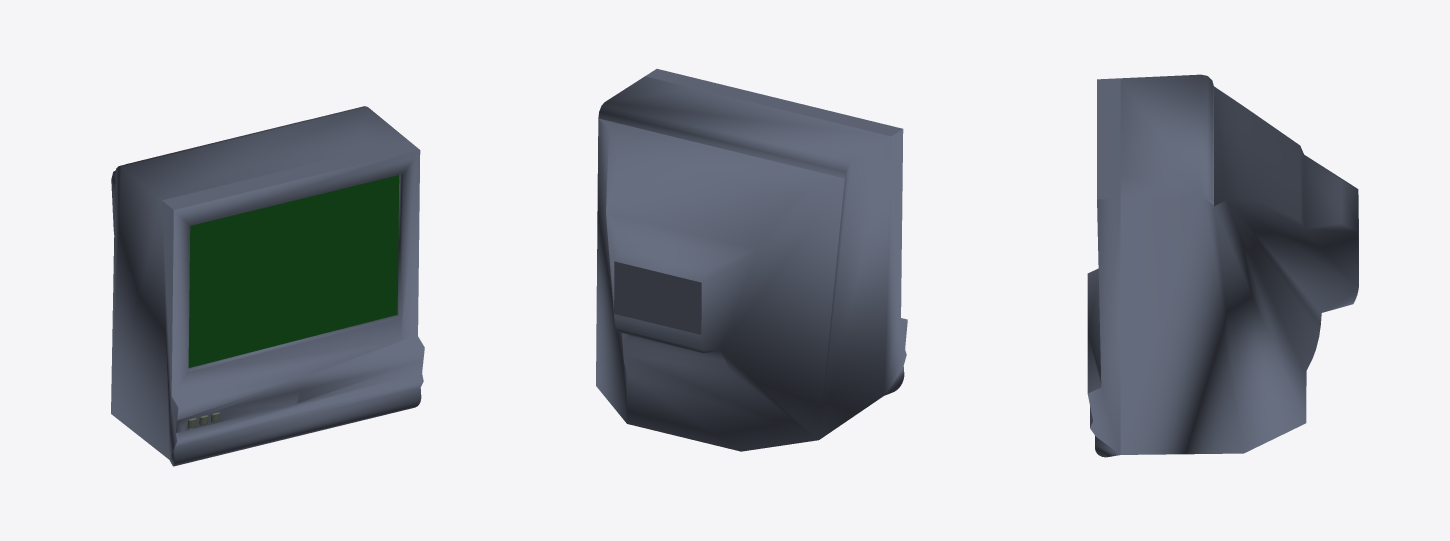
The model's file is video.gltf.
The picture shows the model from 3 angles, left to right: view 1: azimuth 30°, elevation 25°; view 2: azimuth 150°, elevation 25°; view 3: azimuth 270°, elevation 25°; orthographic projection.
Parts seen in each view (by area): view 1: video.001; view 2: video.001; view 3: video.001.
Boxes of the visible parts, left/top/right/bottom form: video.001: left=111, top=106, right=424, bottom=466; video.001: left=596, top=69, right=907, bottom=451; video.001: left=1087, top=74, right=1358, bottom=457.
Size of the model in its own units: 4.9 by 5.65 by 4.9.
